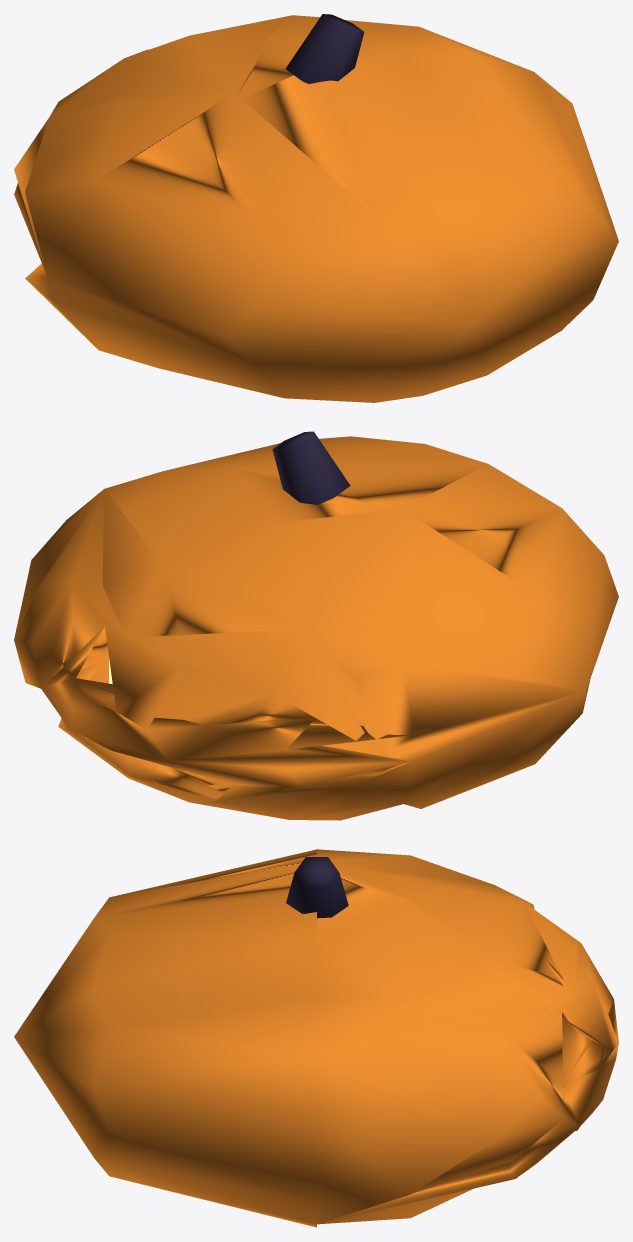
The model's file is pumpkin_small_b_low.glb.
3 views of the same model, one above another, from view 1: azimuth 30°, elevation 25°; view 2: azimuth 150°, elevation 25°; view 3: azimuth 270°, elevation 25° (orthographic). The views are drawn at different scales.
Size of the model in its own units: 0.4877 by 0.2987 by 0.4992.
